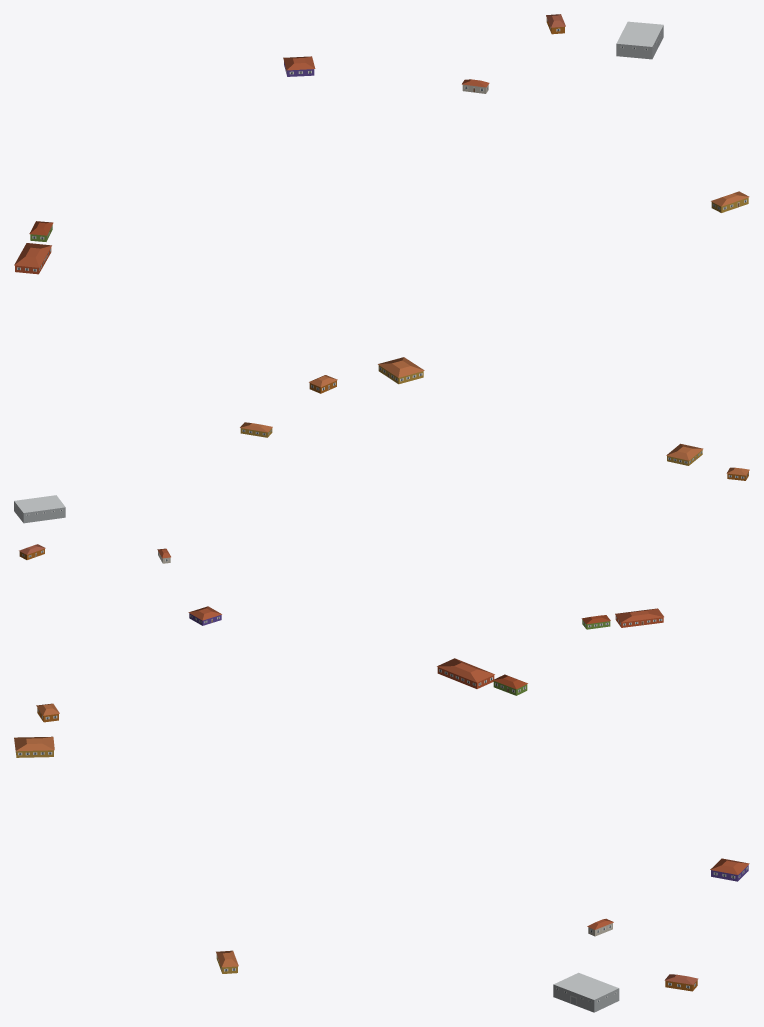
File: msb_oranjestad_m12_3.glb
The picture shows the model from 3 angles, top to bottom: view 1: azimuth 30°, elevation 25°; view 2: azimuth 150°, elevation 25°; view 3: azimuth 270°, elevation 25°; orthographic projection. The views are drawn at different scales.
Visible parts, largest first — view 1: msb_oranjestad_m12_3_lod0; view 2: msb_oranjestad_m12_3_lod0; view 3: msb_oranjestad_m12_3_lod0.
Boxes of the visible parts, left/top/right/bottom form: msb_oranjestad_m12_3_lod0: left=14, top=14, right=749, bottom=393; msb_oranjestad_m12_3_lod0: left=14, top=422, right=749, bottom=629; msb_oranjestad_m12_3_lod0: left=14, top=658, right=749, bottom=1012.
Size of what is drawn, in the model's own units: 380 by 11.64 by 330.
Materials: 3 (1 with a texture image).
